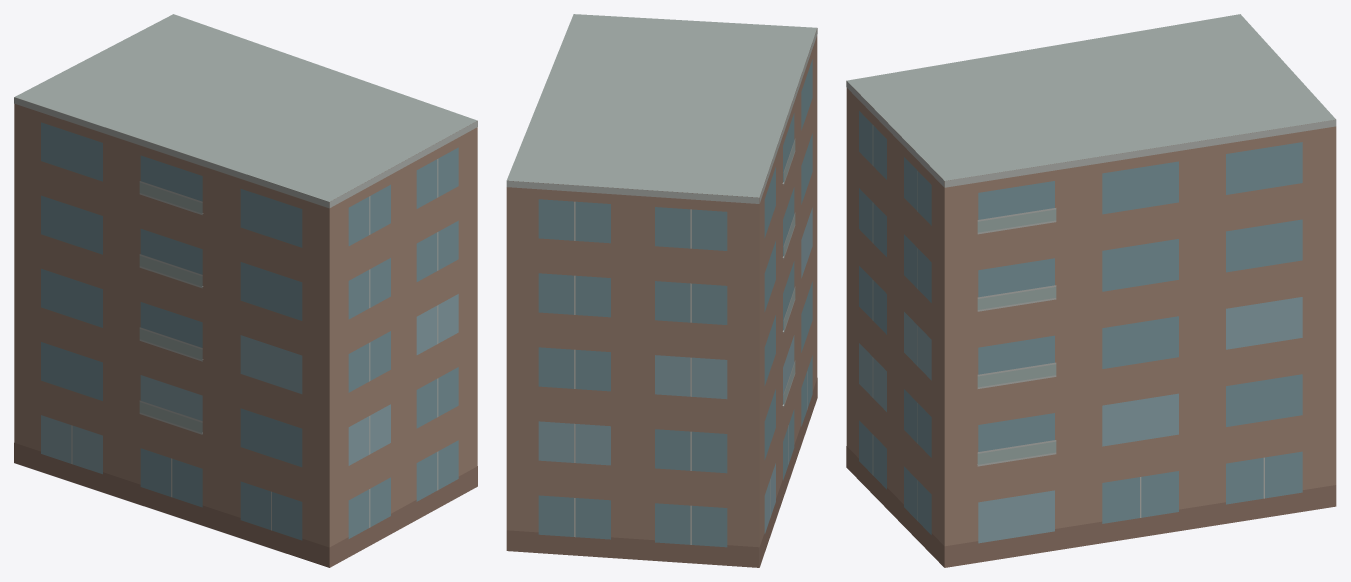
The model's file is survey-upis-32894567.glb.
3 views of the same model, side by side, from view 1: azimuth 30°, elevation 25°; view 2: azimuth 150°, elevation 25°; view 3: azimuth 270°, elevation 25° (orthographic). The views are drawn at different scales.
Visible parts, largest first — view 1: survey-upis-32894567.tmp; view 2: survey-upis-32894567.tmp; view 3: survey-upis-32894567.tmp.
Part boxes in pixels (x1,y1,x2,y2): survey-upis-32894567.tmp: [14, 14, 477, 567]; survey-upis-32894567.tmp: [506, 14, 817, 567]; survey-upis-32894567.tmp: [846, 14, 1336, 567].
Size of the model in its own units: 12.87 by 13.9 by 15.96.
